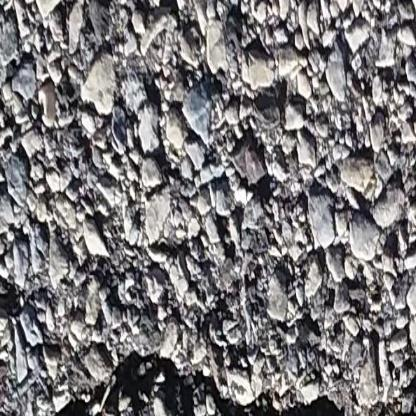Cracks: (19, 350, 416, 416)
